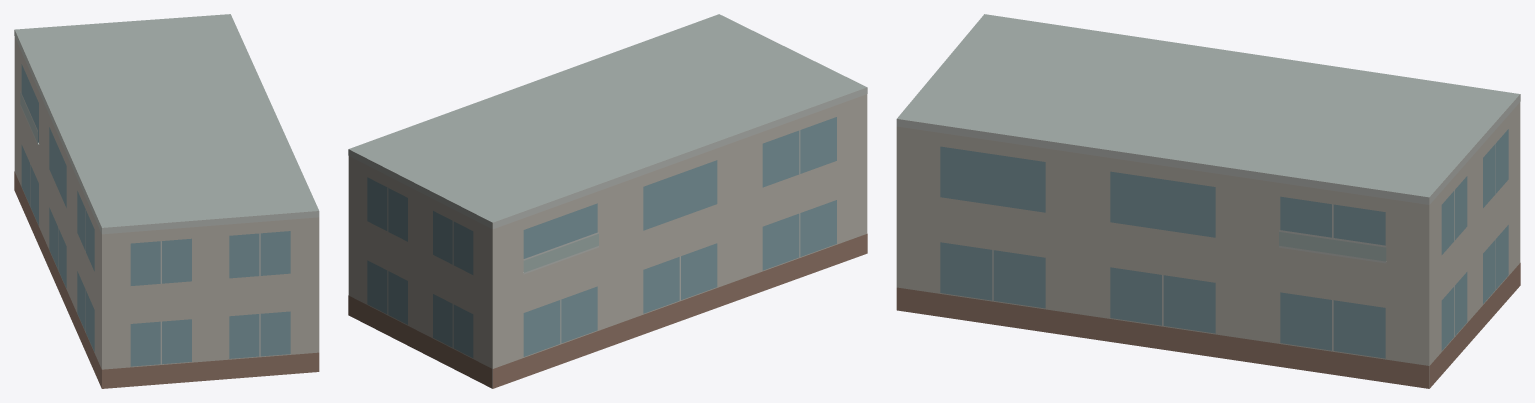
File: survey-upis-33007317.glb
3 renders of one model, left to right at view 1: azimuth 30°, elevation 25°; view 2: azimuth 150°, elevation 25°; view 3: azimuth 270°, elevation 25°, orthographic. The views are drawn at different scales.
Visible parts, largest first — view 1: survey-upis-33007317.tmp; view 2: survey-upis-33007317.tmp; view 3: survey-upis-33007317.tmp.
Boxes of the visible parts, <box> form: survey-upis-33007317.tmp: <box>14,14,319,388</box>; survey-upis-33007317.tmp: <box>348,14,867,388</box>; survey-upis-33007317.tmp: <box>896,14,1520,388</box>.
Bounding box in the file's own units: 12.54 × 6.1 × 18.02.
